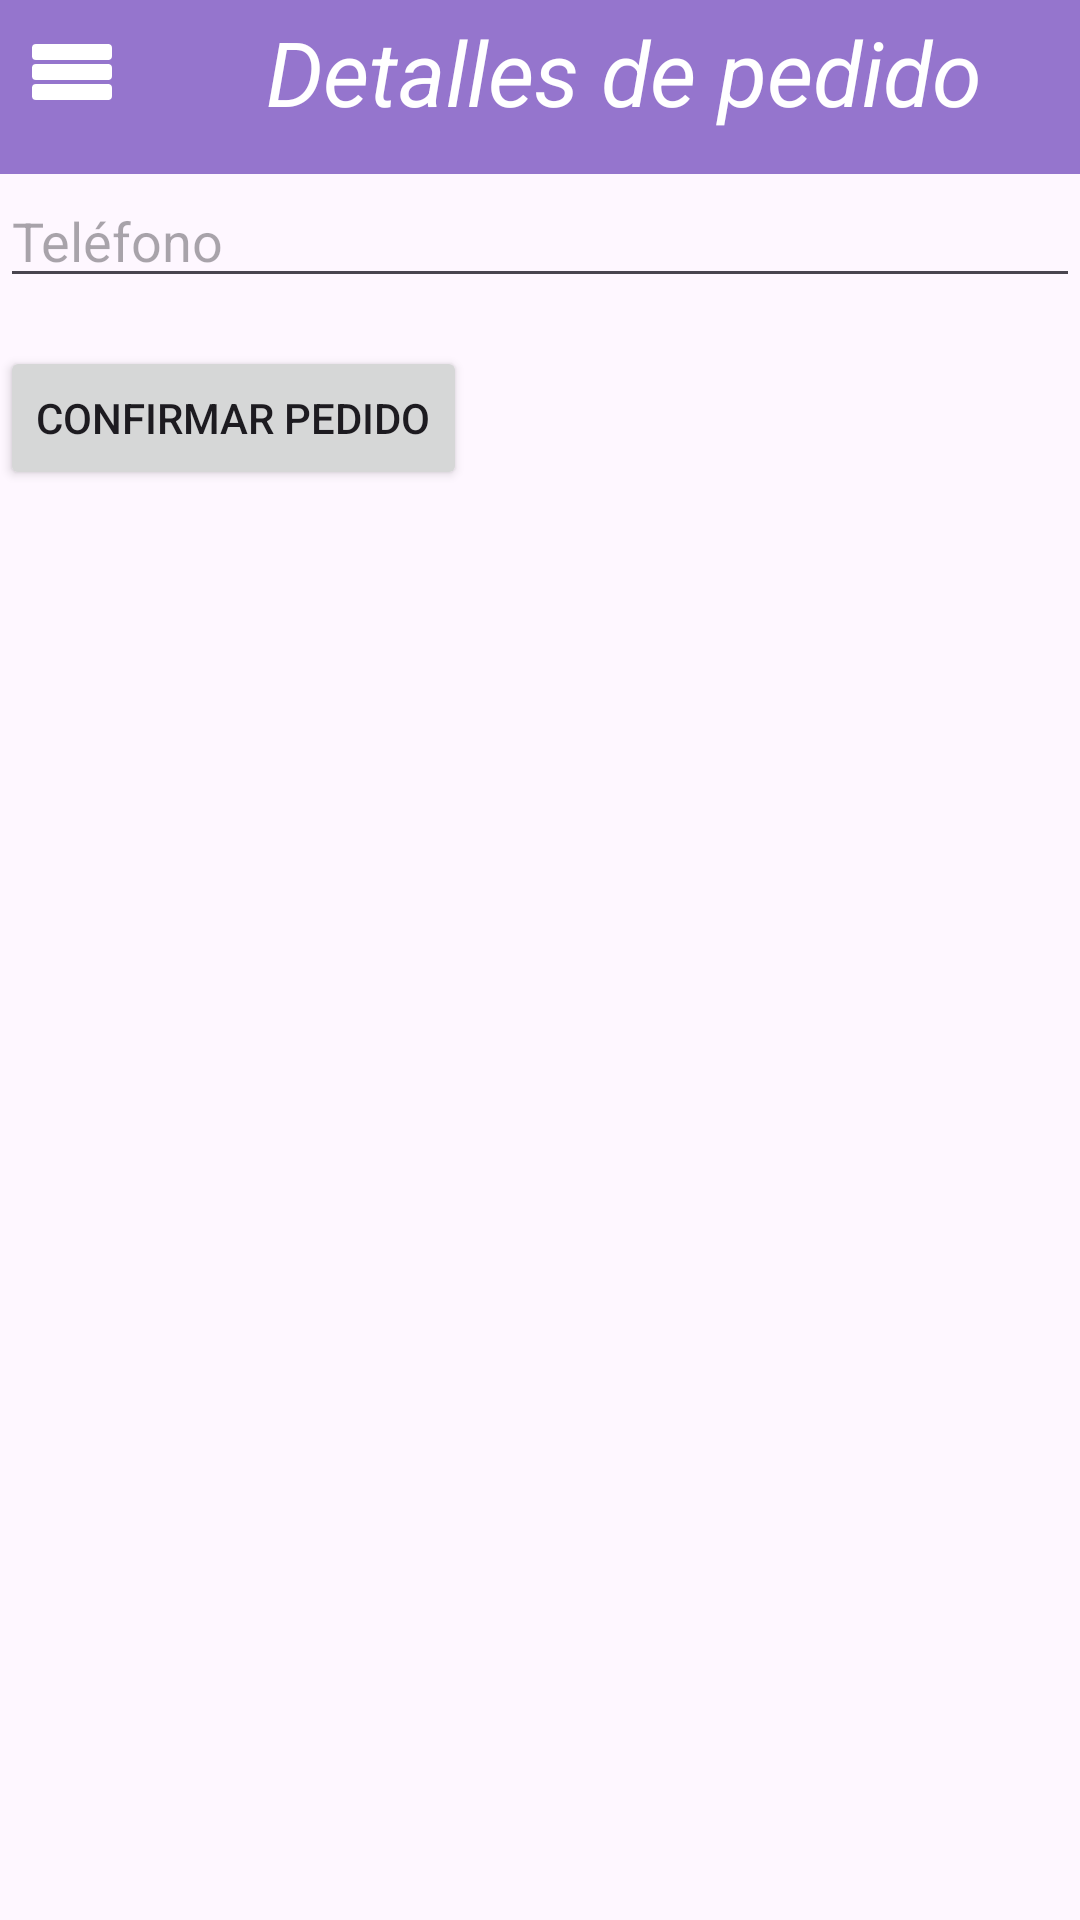

Where icons sit on this 1080 x 1920 app screen, as (x1, y1, x2, y2):
menu: (32, 44, 112, 100)
